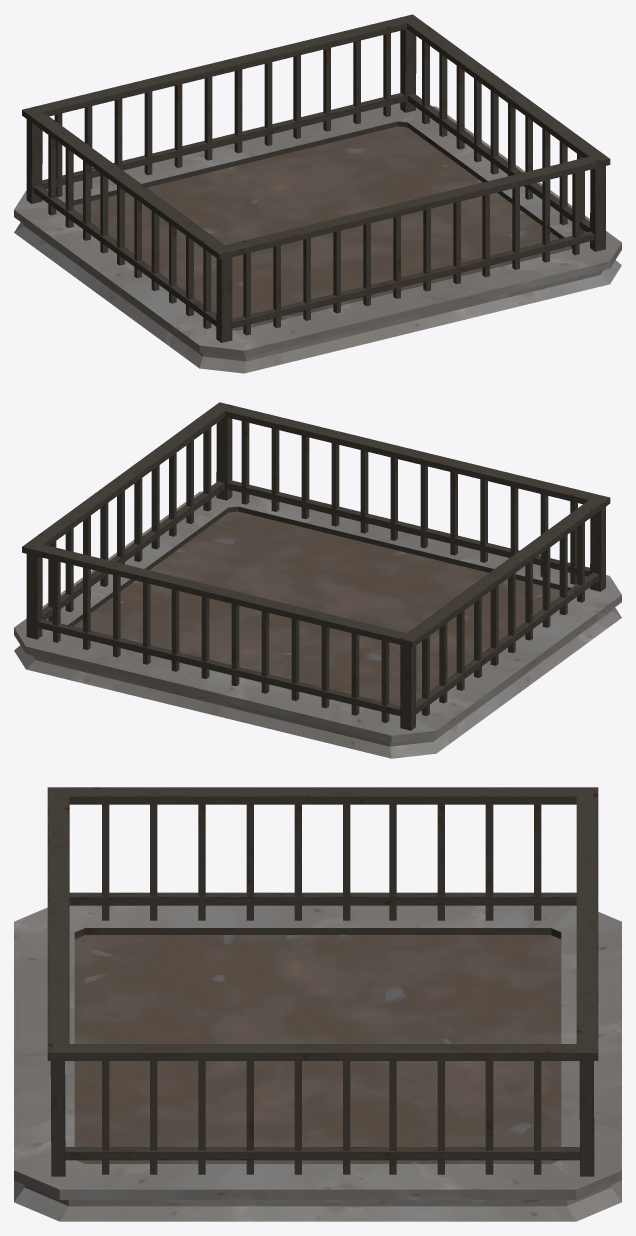
Rendered from Sidewalk_Planter.glb.
3 renders of one model, top to bottom at view 1: azimuth 30°, elevation 25°; view 2: azimuth 150°, elevation 25°; view 3: azimuth 270°, elevation 25°, orthographic. The views are drawn at different scales.
Parts seen in each view (by area): view 1: Sidewalk_Planter; view 2: Sidewalk_Planter; view 3: Sidewalk_Planter.
Boxes of the visible parts, x1,y1,x2,y2 form: Sidewalk_Planter: (14,14,621,373); Sidewalk_Planter: (14,402,621,758); Sidewalk_Planter: (14,787,621,1221).
Size of the model in its own units: 1.97 by 0.5057 by 1.77.
Materials: 2 (2 with a texture image).
